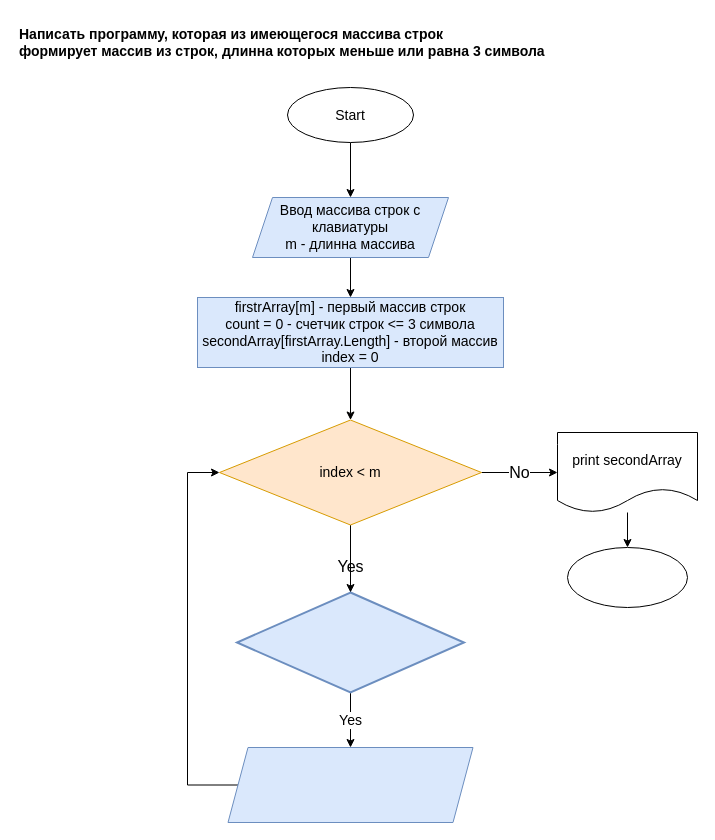
Image size: 715x840. Some labels were removed from this diagram. The centre of each missing label's shape, as x and y in pixels:
"count = count +1 secondArray[count] = i" belongs at (x=350, y=784).
"End" belongs at (x=627, y=577).
"firstArray[index] <= 3" belongs at (x=350, y=642).
